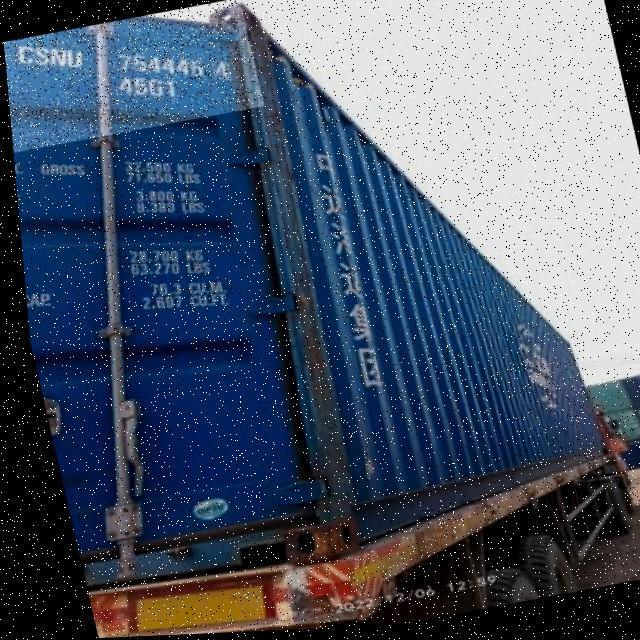container_number_h: (1, 0, 265, 153)
